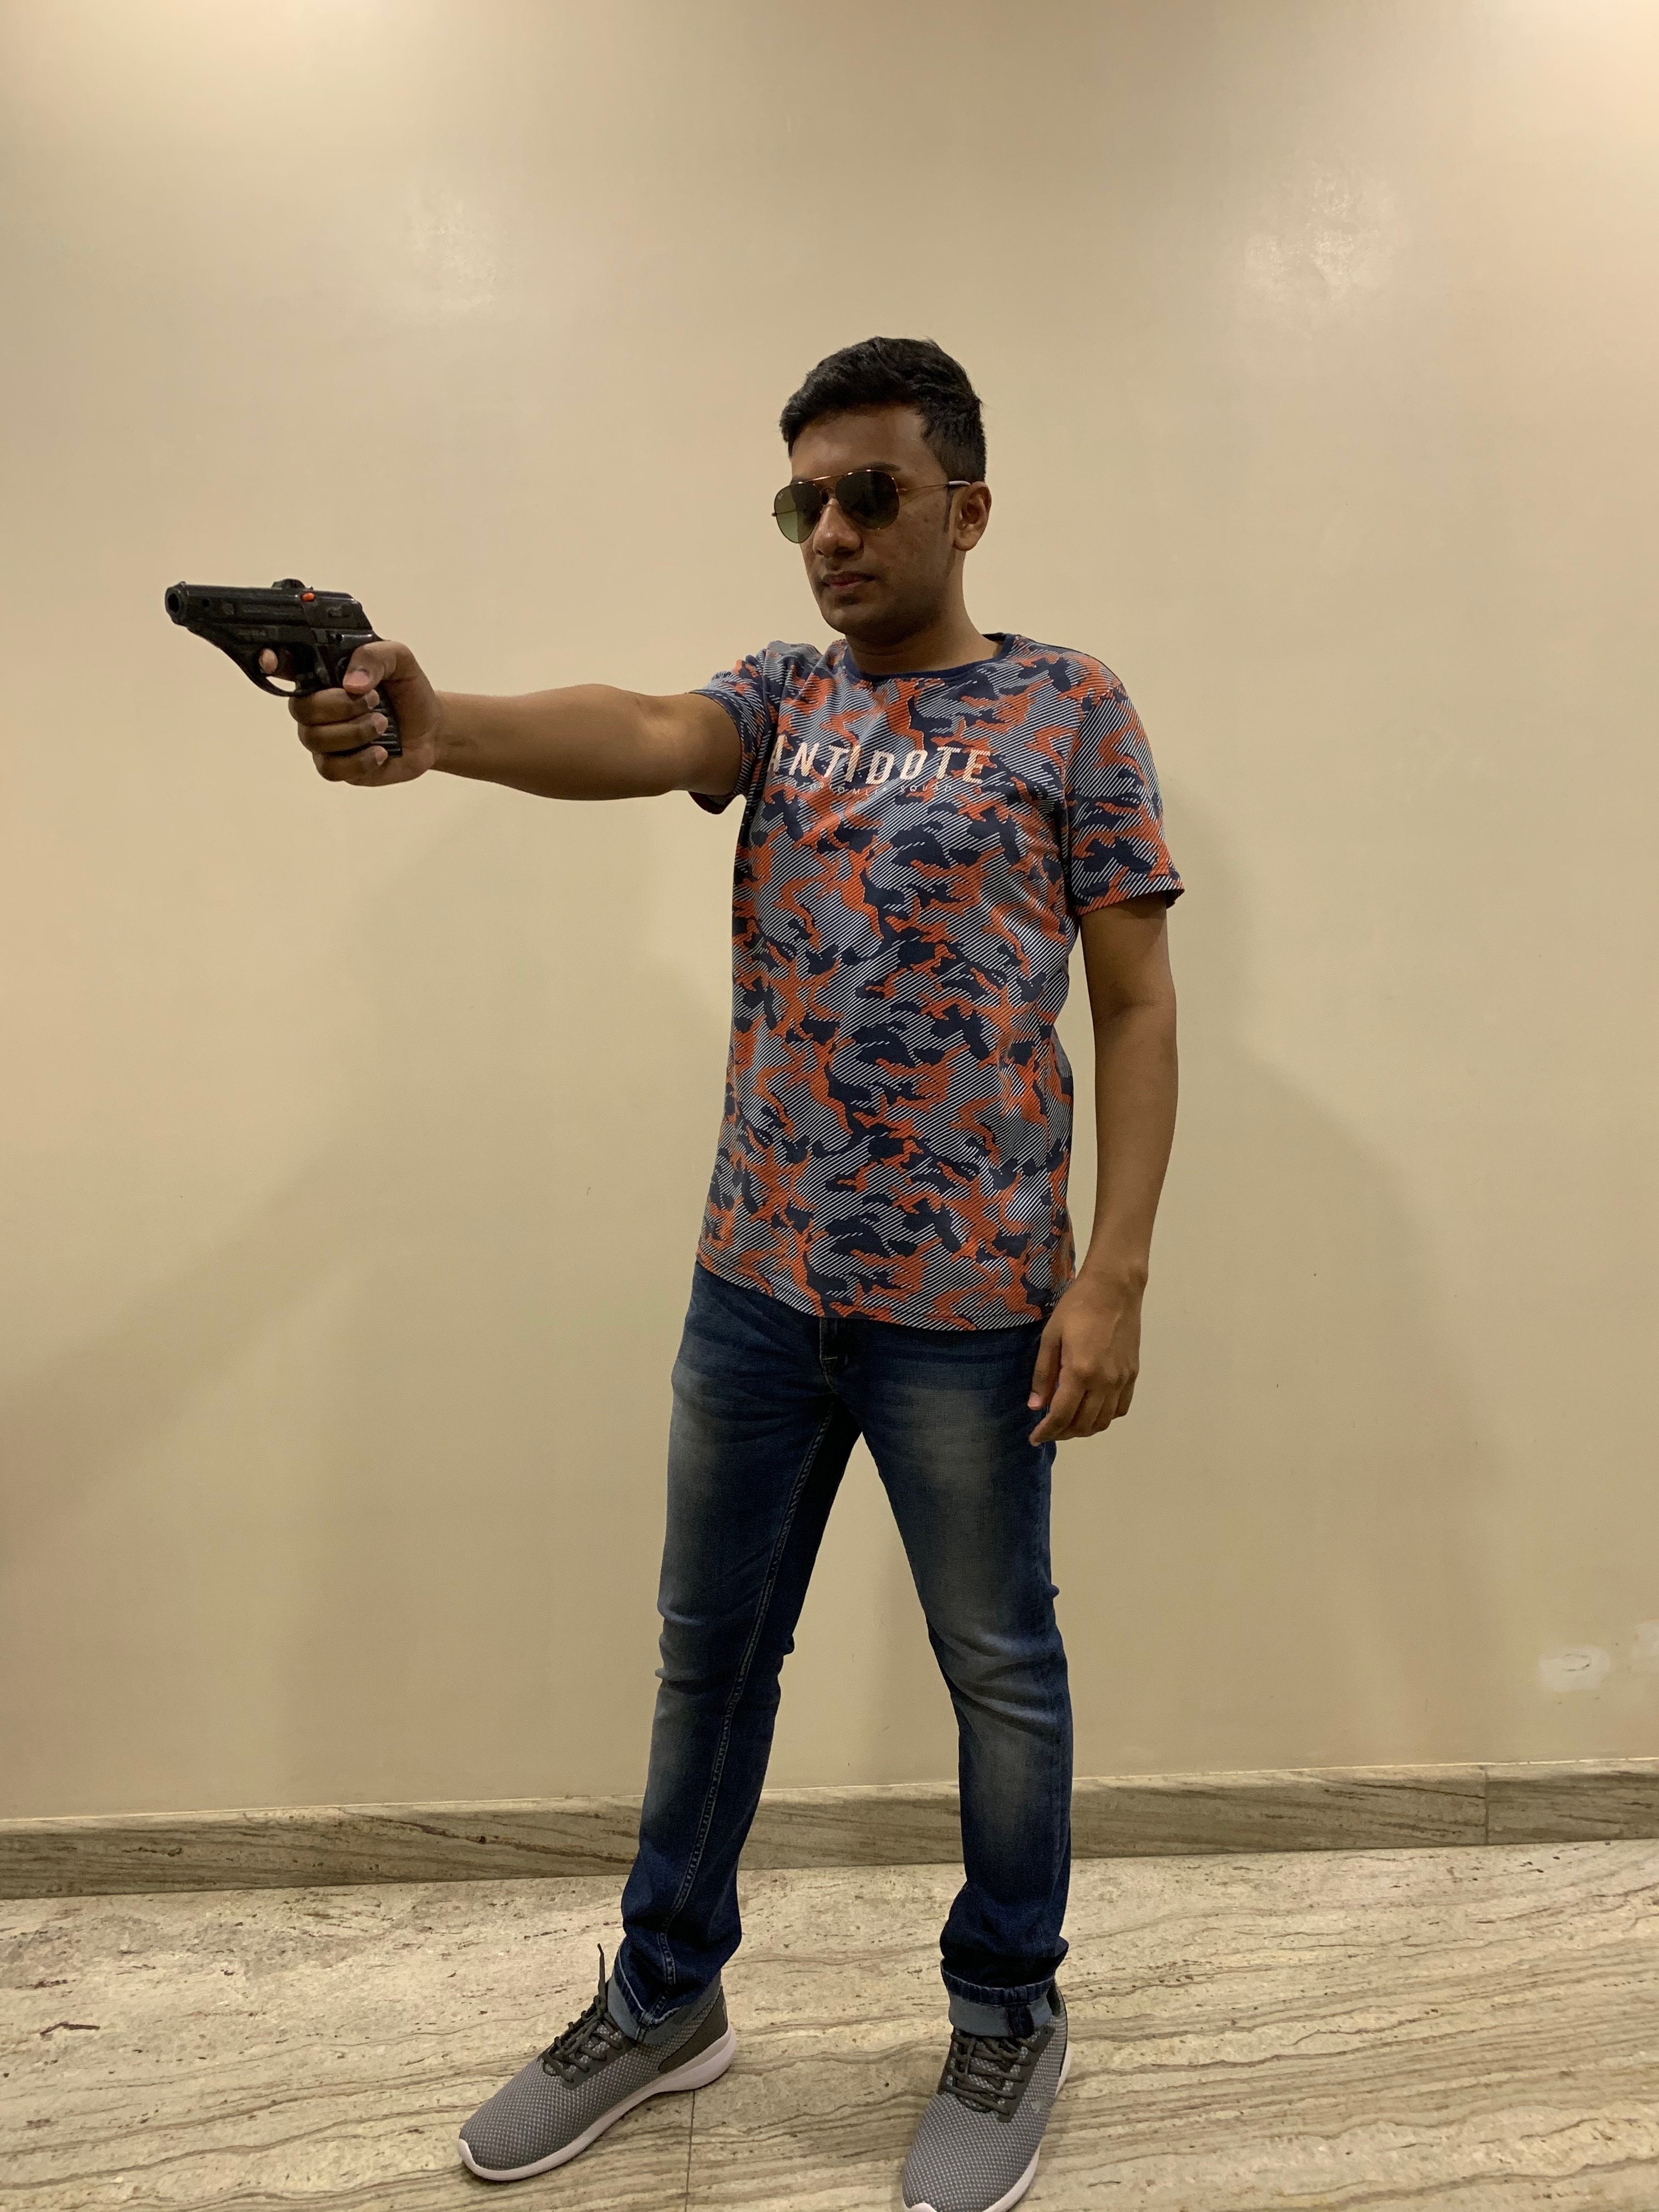gun: (159, 571, 397, 704)
